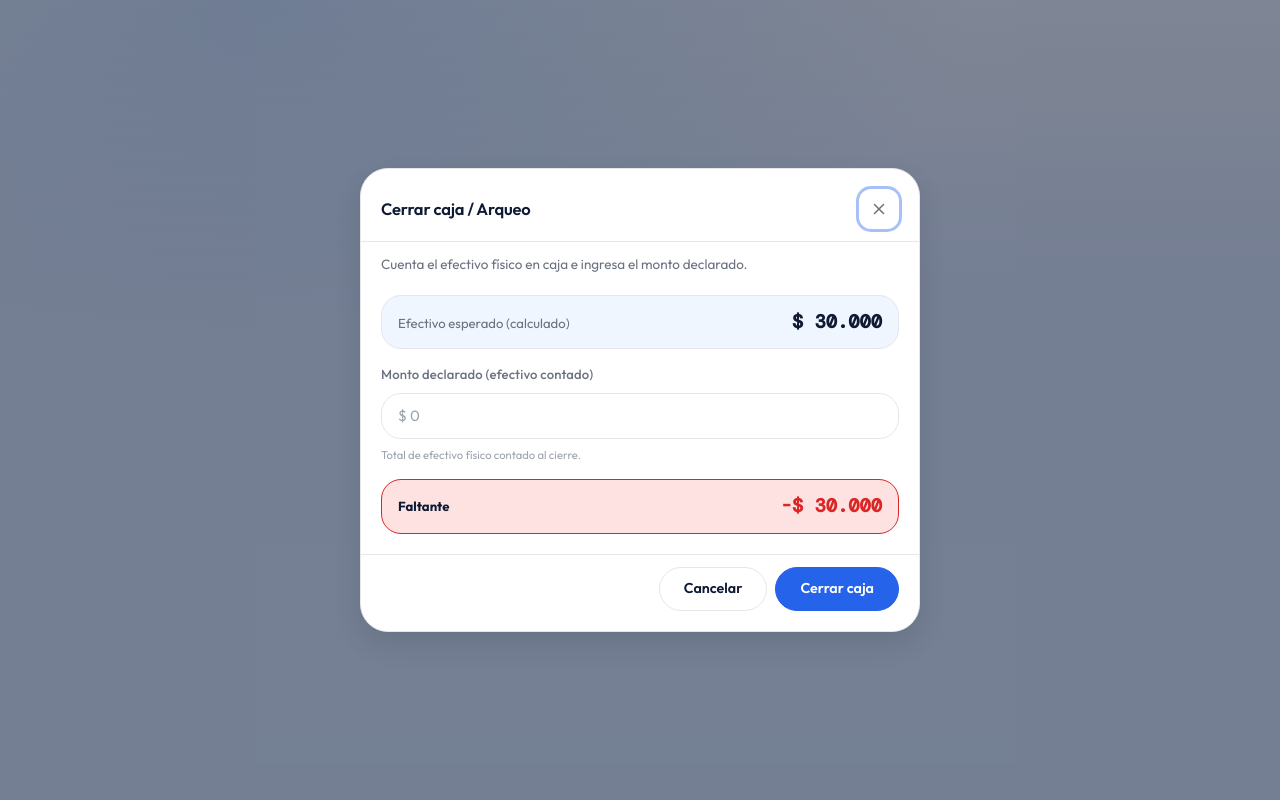
it: ArqueoModal › muestra diferencia 0 (cuadrada) cuando declarado = calculado
Type "30000" into the field labelled "Monto declarado (efectivo contado)". click: (640, 416)
box: [382,394,898,438]
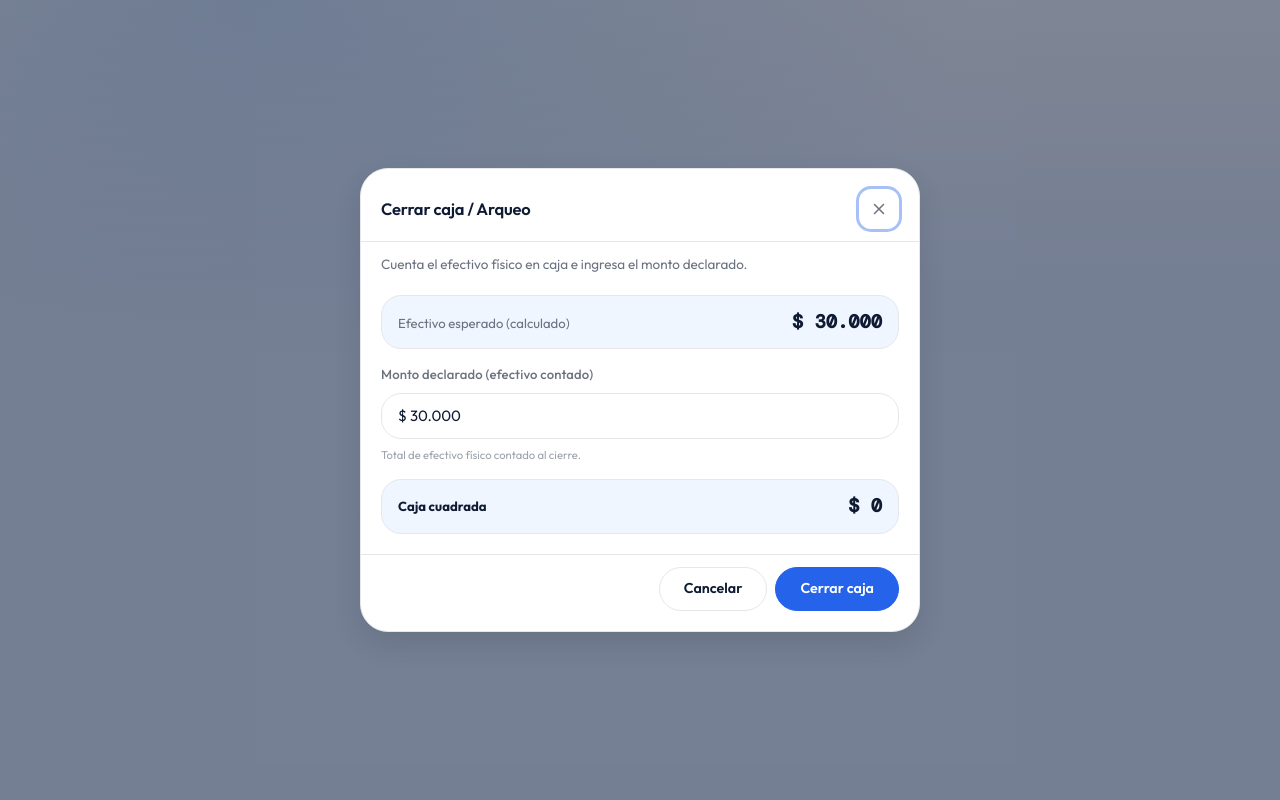
Expected: the text "Caja cuadrada" is shown, [398,497,486,516]
Expected: the text with test id "arqueo-diferencia" reads "$ 0", [848,493,882,518]
